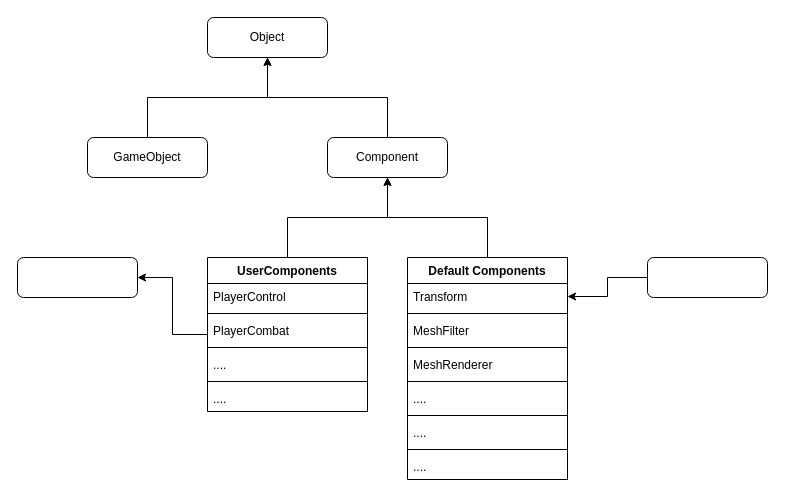
Some shapes in this 785 by 500 pixel diagram are drawn without their labels. The shapes that lost their labels are listed below. From the top down, each one's centre as x and y in pixels, then its label:
At (77,277): "Interface".
At (707,277): "RectTransform".
